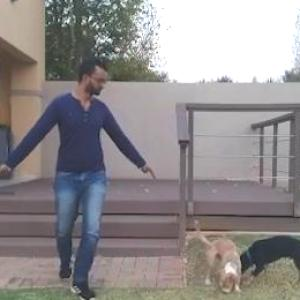land: (1, 47, 170, 299)
